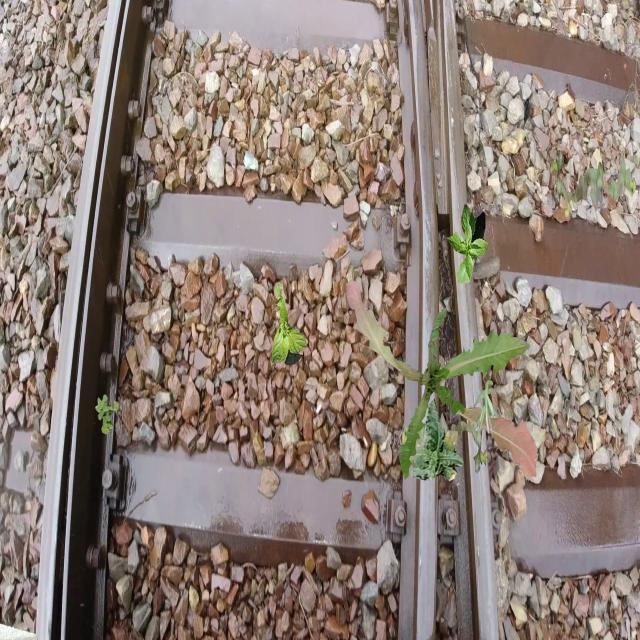Plant: (346, 279, 538, 482), (401, 405, 488, 473), (550, 150, 636, 218), (401, 398, 464, 481), (446, 204, 488, 284), (272, 282, 308, 366), (473, 379, 500, 436), (95, 394, 119, 435)
